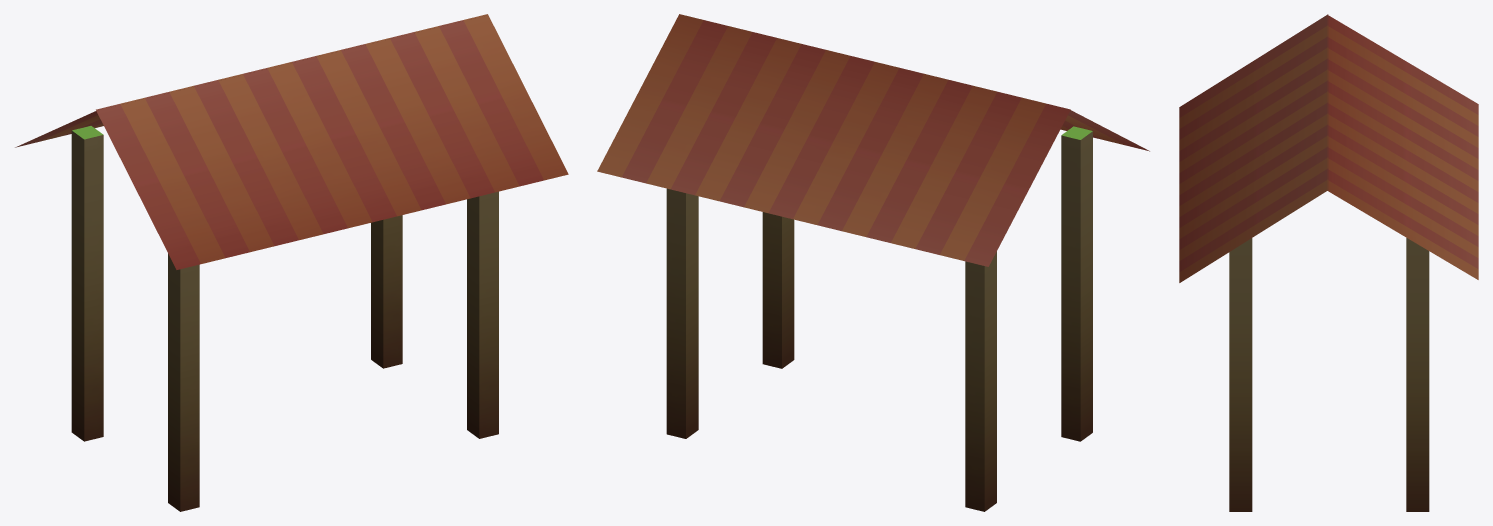
Rendered from SM_Shed_02.fbx.
3 views of the same model, side by side, from view 1: azimuth 30°, elevation 25°; view 2: azimuth 150°, elevation 25°; view 3: azimuth 270°, elevation 25° (orthographic). The views are drawn at different scales.
Parts seen in each view (by area): view 1: Plane.002; view 2: Plane.002; view 3: Plane.002.
Boxes of the visible parts, <box> form: Plane.002: <box>15,14,568,511</box>; Plane.002: <box>597,14,1149,511</box>; Plane.002: <box>1179,14,1478,511</box>.
Bounding box in the file's own units: 42.42 × 38.29 × 30.45.
